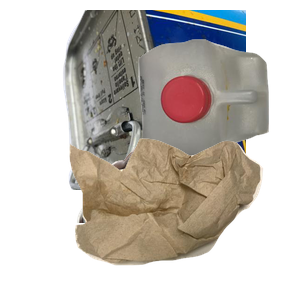glass: (74, 120, 244, 300)
metal: (60, 10, 300, 190)
plastic: (136, 37, 300, 188)
trash: (67, 136, 300, 300)
